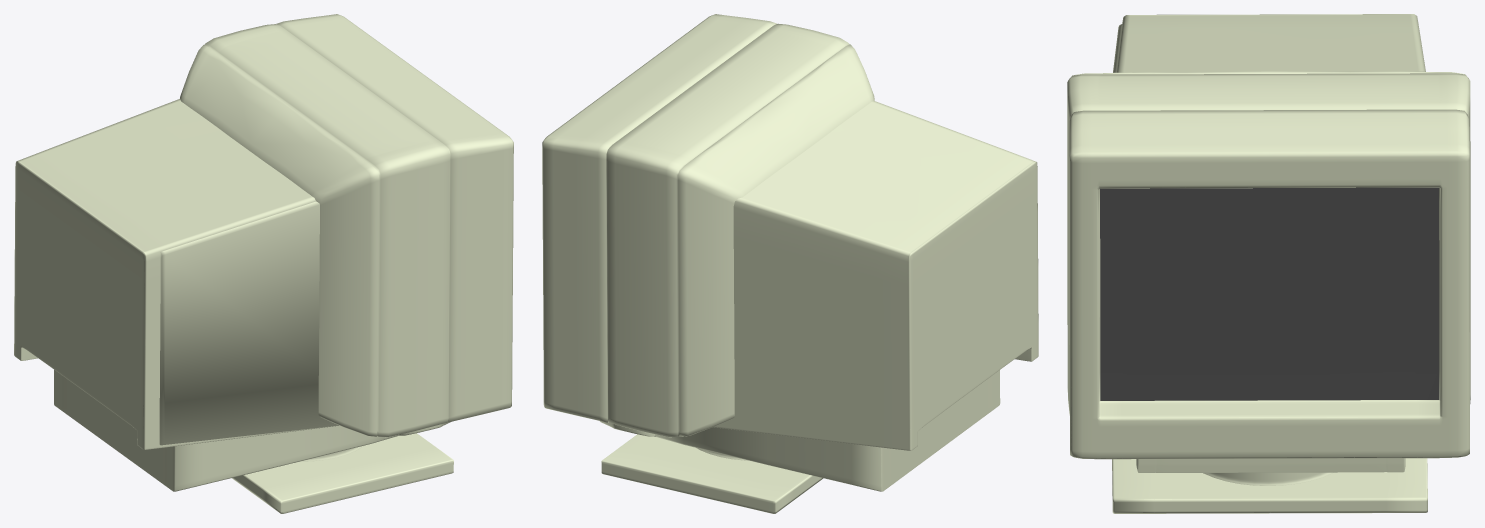
Rendered from monitor.glb.
The picture shows the model from 3 angles, left to right: view 1: azimuth 30°, elevation 25°; view 2: azimuth 150°, elevation 25°; view 3: azimuth 270°, elevation 25°; orthographic projection. The views are drawn at different scales.
Visible parts, largest first — view 1: momitor, back, Box001, down, Box005; view 2: back, momitor, down, Box005; view 3: momitor, momitor.001, back, Box005, down, Cylinder001.
Part boxes in pixels (<box>): momitor: <box>180,14,513,437</box>; back: <box>14,99,338,449</box>; Box001: <box>159,201,338,445</box>; down: <box>54,370,451,491</box>; Box005: <box>232,433,453,513</box>; back: <box>713,100,1038,450</box>; momitor: <box>542,14,874,437</box>; down: <box>600,370,1000,491</box>; Box005: <box>601,434,823,513</box>; momitor: <box>1067,71,1470,459</box>; momitor.001: <box>1100,187,1439,400</box>; back: <box>1116,14,1425,72</box>; Box005: <box>1112,458,1427,513</box>; down: <box>1136,458,1405,472</box>; Cylinder001: <box>1203,472,1333,485</box>.
Size of the model in its own units: 30.45 by 28.69 by 26.69.
